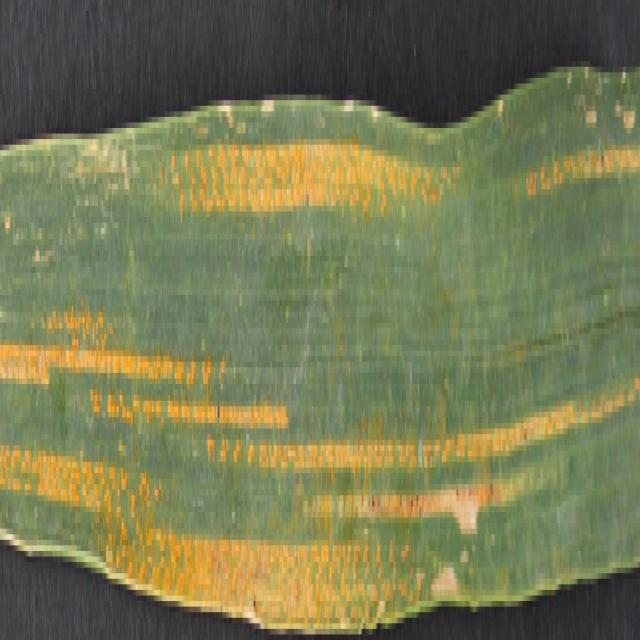leaf rust: (1, 78, 640, 640)
